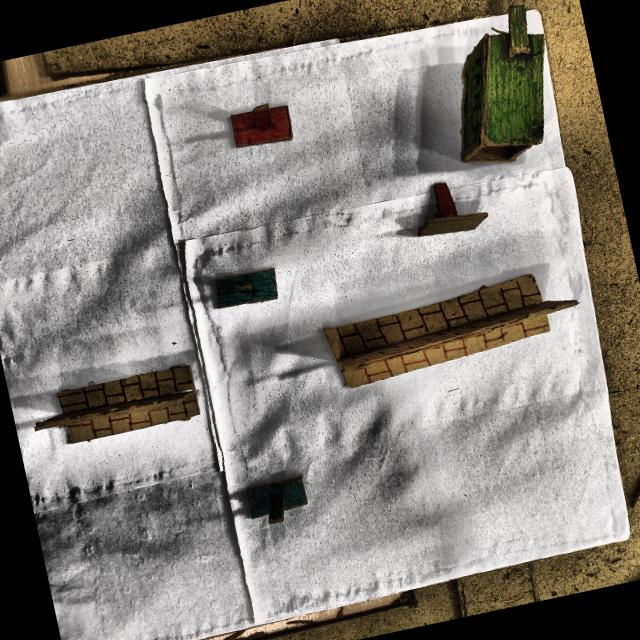Dead soldier -enemy-: (412, 180, 492, 240)
Tank: (461, 7, 549, 165)
Wall: (320, 275, 579, 389), (34, 365, 201, 446)
enemy: (224, 101, 318, 159)
friend: (241, 474, 315, 526), (214, 265, 284, 311)
